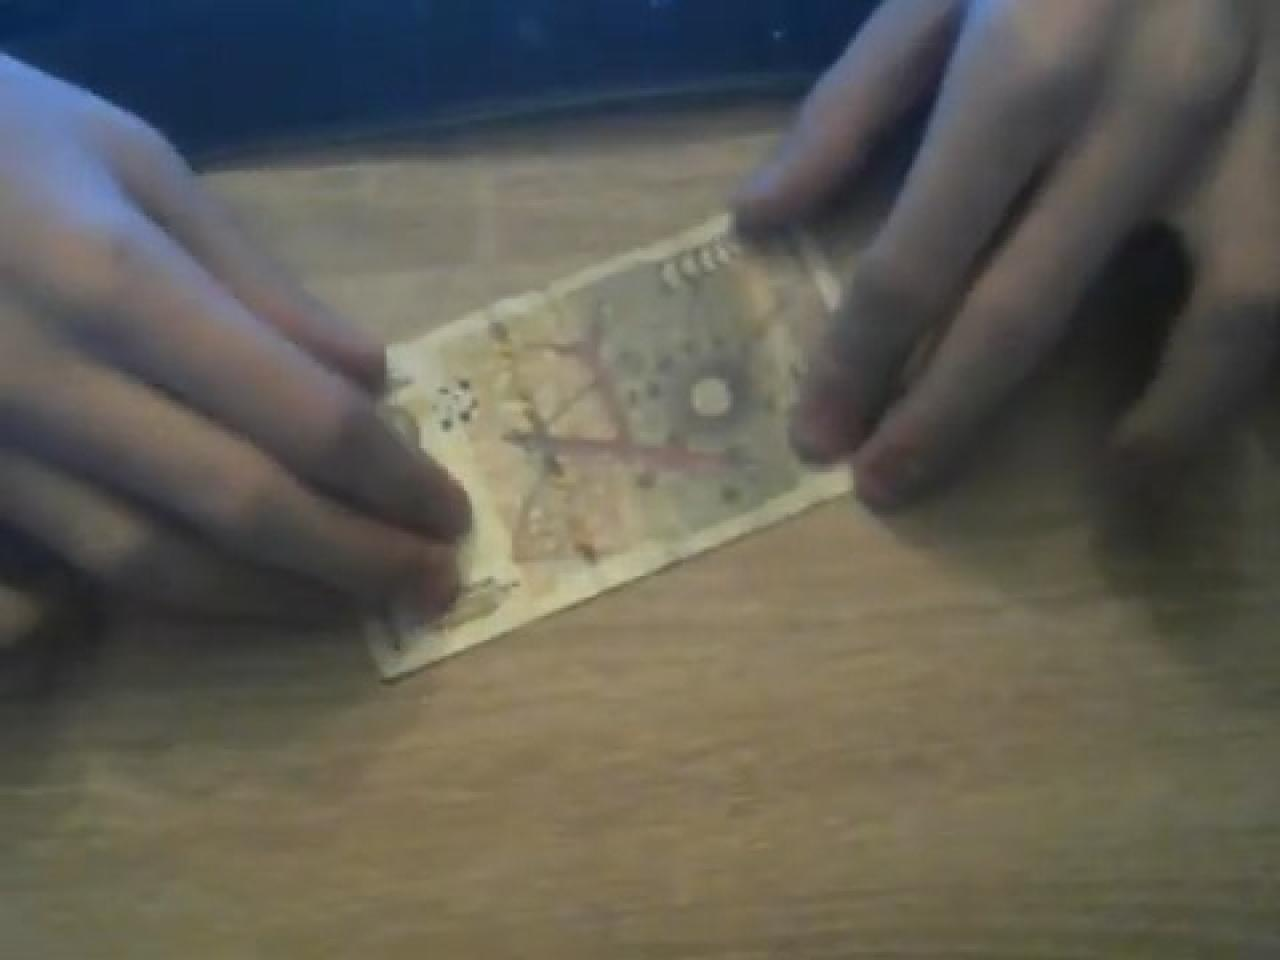10leva: (371, 219, 851, 683)
